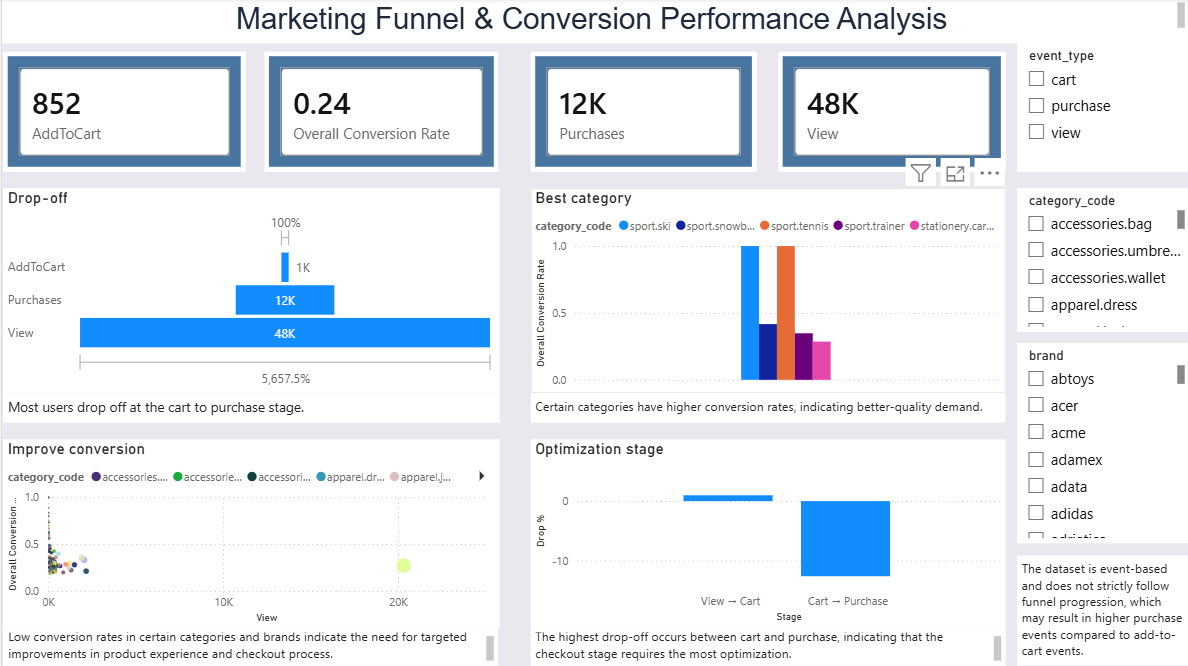

The page's visual inventory and layout, read from the dashboard file:
{"tool":"powerbi","page":{"name":"Page 1","canvas":[1280,720],"ordinal":0},"visuals":[{"type":"textbox","box":[0,0,1280.3,48.5],"z":0},{"type":"cardVisual","fields":{"Data":["2019-Oct.AddToCart"]},"box":[1.3,57.9,261.4,129.4],"z":1000},{"type":"cardVisual","fields":{"Data":["2019-Oct.Overall Conversion Rate"]},"box":[283,57.9,252,129.4],"z":2000},{"type":"cardVisual","fields":{"Data":["2019-Oct.Purchases"]},"box":[570.1,57.9,243.9,129.4],"z":3000},{"type":"cardVisual","fields":{"Data":["2019-Oct.Views"]},"box":[836.9,57.9,245.3,129.4],"z":4000},{"type":"funnel","title":"Drop-off","fields":{"Y":["2019-Oct.AddToCart","2019-Oct.Purchases","2019-Oct.Views"]},"box":[1.3,204.8,535,221],"z":5000},{"type":"textbox","box":[1.3,425.9,535,32.3],"z":6000},{"type":"clusteredColumnChart","title":"Best category","fields":{"Y":["2019-Oct.Overall Conversion Rate"],"Series":["2019-Oct.category_code"]},"box":[570.1,204.8,512.1,221],"z":7000},{"type":"textbox","box":[570.1,425.9,512.1,32.3],"z":8000},{"type":"textbox","box":[1.3,679.2,533.7,40.4],"z":9000},{"type":"scatterChart","title":"Improve conversion","fields":{"X":["2019-Oct.View"],"Y":["2019-Oct.Overall Conversion Rate"],"Size":["2019-Oct.Purchases"],"Series":["2019-Oct.category_code"]},"box":[1.3,475.7,535,203.5],"z":10000},{"type":"clusteredColumnChart","title":"Optimization stage","fields":{"Category":["Stage.Stage"],"Y":["2019-Oct.Drop %"]},"box":[570,476,512,203],"z":11000},{"type":"textbox","box":[570.1,679.2,512.1,40.4],"z":12000},{"type":"slicer","fields":{"Values":["2019-Oct.event_type"]},"box":[1094.3,48.5,186,138.8],"z":13000},{"type":"slicer","fields":{"Values":["2019-Oct.category_code"]},"box":[1094.3,204.8,186,155],"z":14000},{"type":"slicer","fields":{"Values":["2019-Oct.brand"]},"box":[1094.3,372,186,215.6],"z":15000},{"type":"textbox","box":[1094.3,601.1,186,118.6],"z":15001}]}

Visuals, with their boxes on the page's 1280x720 design canvas (x1, y1, x2, y2). These are canvas units, not pixel positions in the 1188x666 screenshot, which may show the page scaled, cropped or inside an application window:
textbox: select_region(0, 0, 1280, 48)
cardVisual - 2019-Oct.AddToCart: select_region(1, 58, 263, 187)
cardVisual - 2019-Oct.Overall Conversion Rate: select_region(283, 58, 535, 187)
cardVisual - 2019-Oct.Purchases: select_region(570, 58, 814, 187)
cardVisual - 2019-Oct.Views: select_region(837, 58, 1082, 187)
"Drop-off" funnel: select_region(1, 205, 536, 426)
textbox: select_region(1, 426, 536, 458)
"Best category" clusteredColumnChart: select_region(570, 205, 1082, 426)
textbox: select_region(570, 426, 1082, 458)
textbox: select_region(1, 679, 535, 720)
"Improve conversion" scatterChart: select_region(1, 476, 536, 679)
"Optimization stage" clusteredColumnChart: select_region(570, 476, 1082, 679)
textbox: select_region(570, 679, 1082, 720)
slicer - 2019-Oct.event_type: select_region(1094, 48, 1280, 187)
slicer - 2019-Oct.category_code: select_region(1094, 205, 1280, 360)
slicer - 2019-Oct.brand: select_region(1094, 372, 1280, 588)
textbox: select_region(1094, 601, 1280, 720)
